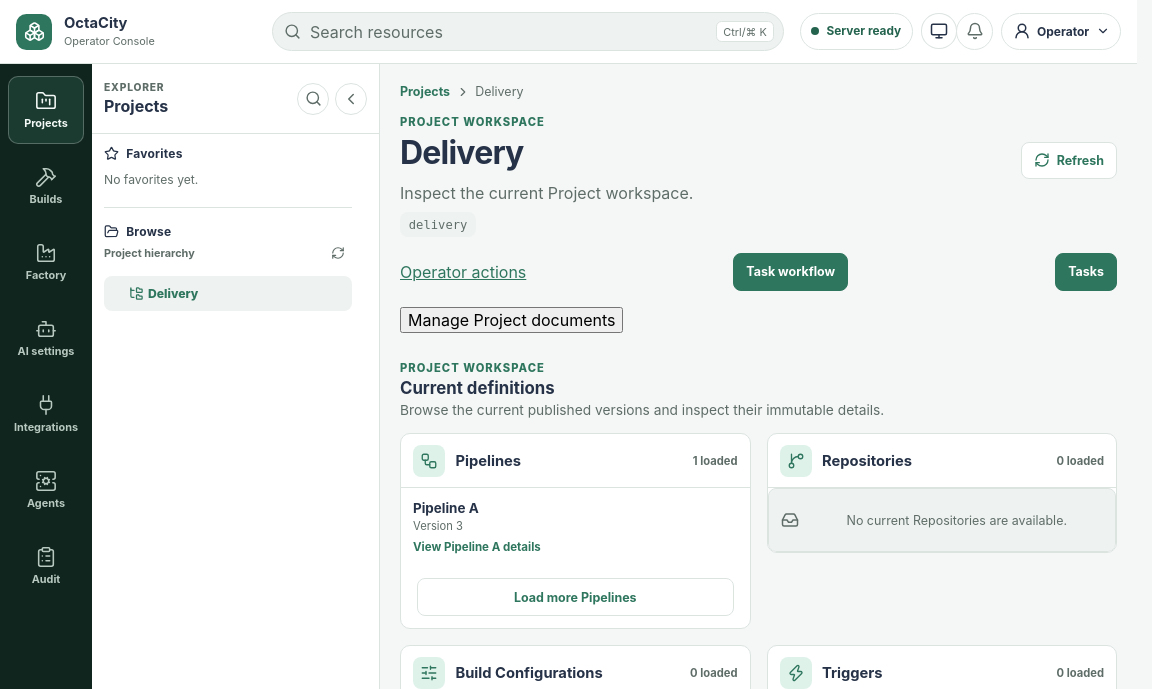
Scenario: Project definitions › retains definitions and exposes a retry when the next page fails
Click the button "Load more Pipelines" at (575, 597), box [417,578,734,616]
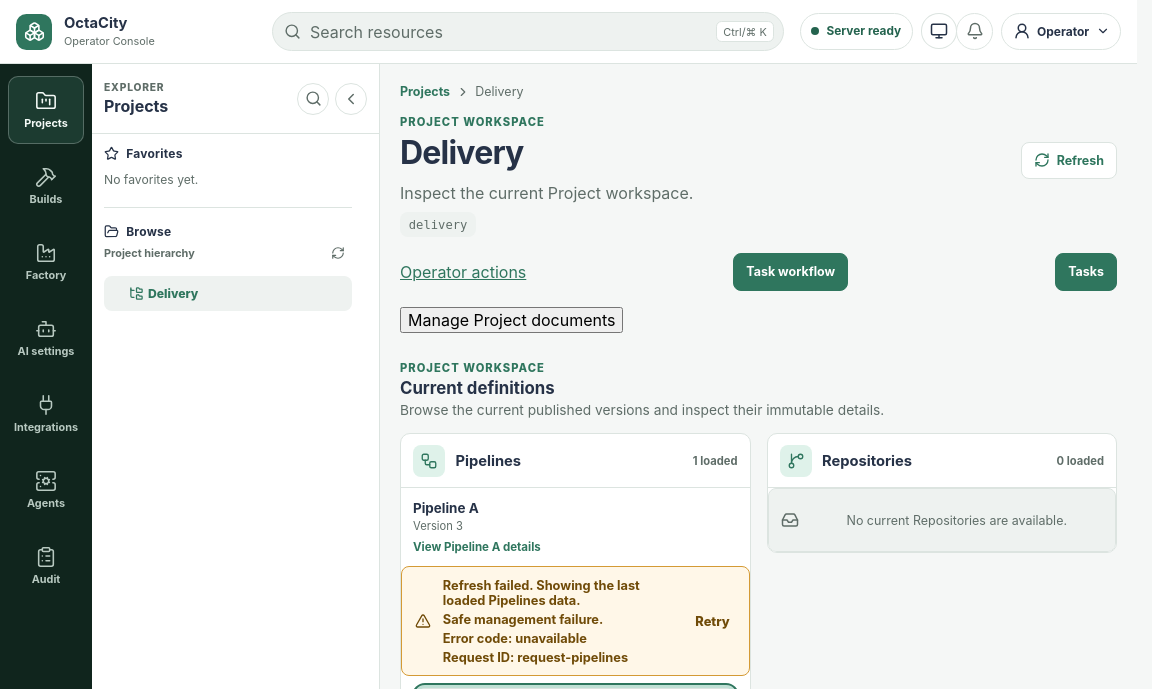
Check: the text "Pipeline A" is shown, box [413,500,479,516]
Check: the text "Refresh failed. Showing the last loaded Pipelines data." is shown, box [443,578,640,608]
Check: the button "Retry" is shown, box [689,613,736,630]
